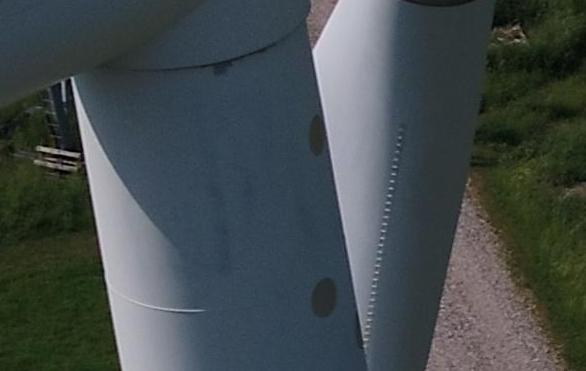damage: (212, 59, 233, 77)
